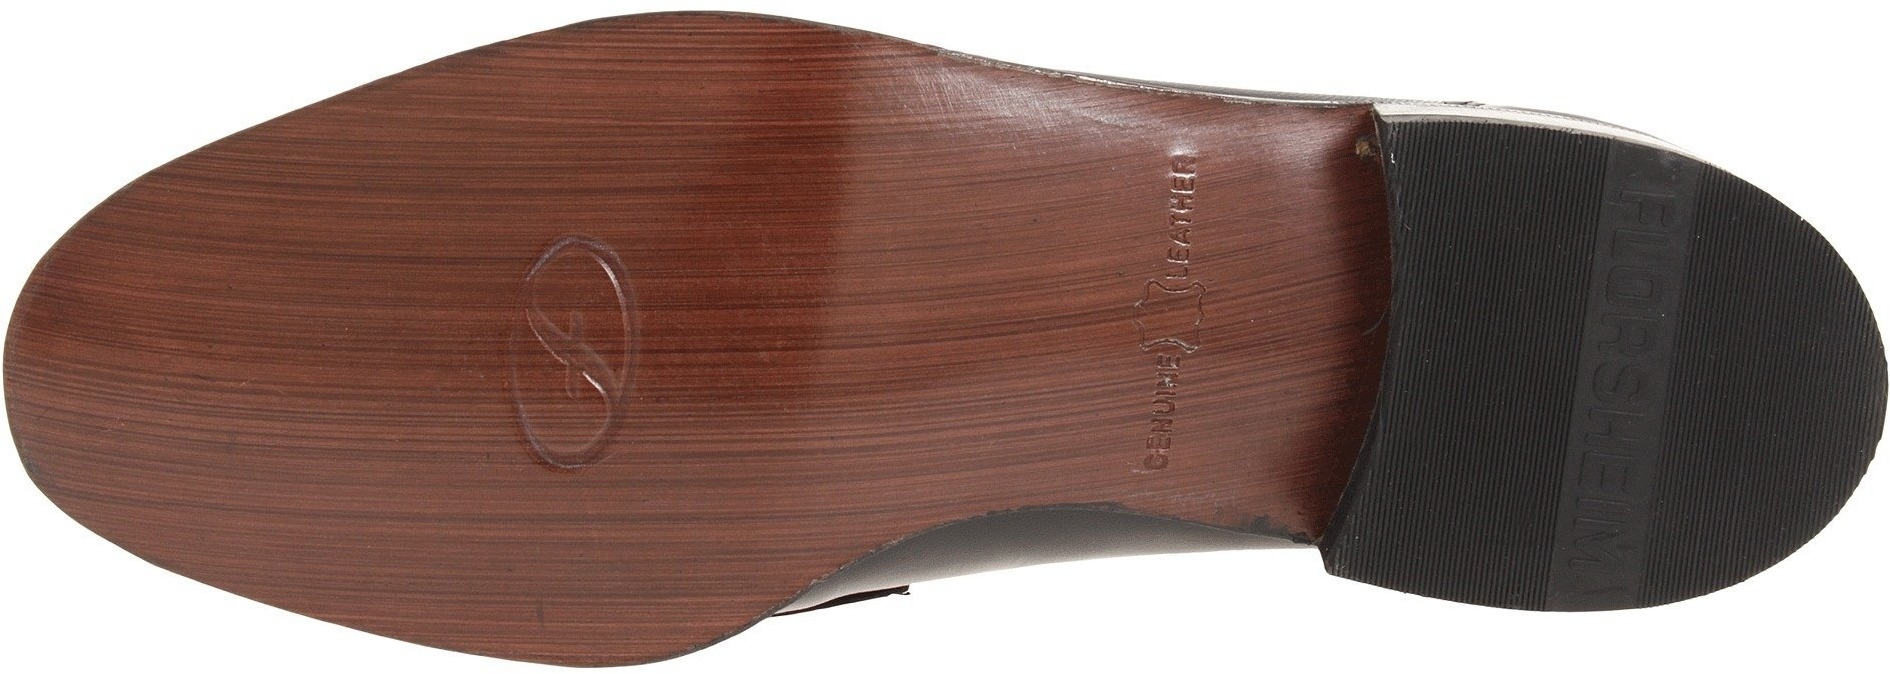circle: (505, 229, 663, 481)
other: (677, 127, 1028, 461), (243, 345, 501, 587), (250, 112, 504, 348), (1411, 139, 1590, 297), (1386, 402, 1552, 568), (1694, 323, 1857, 483)
text: (1046, 142, 1284, 361), (505, 229, 663, 481), (1562, 216, 1713, 365), (1548, 395, 1681, 528), (1107, 374, 1237, 494)
